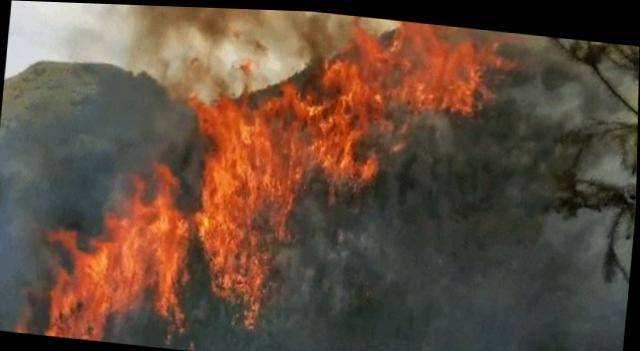fire: (16, 0, 515, 349)
